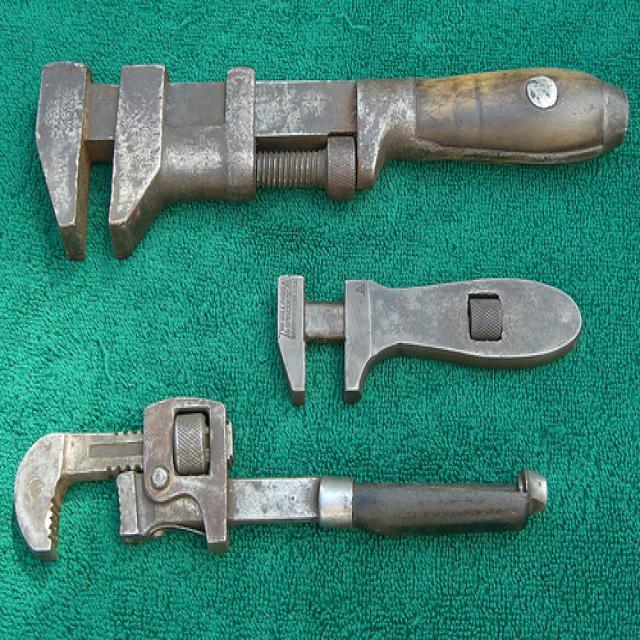wrench: (20, 58, 630, 225), (0, 397, 561, 552), (239, 279, 567, 398)
